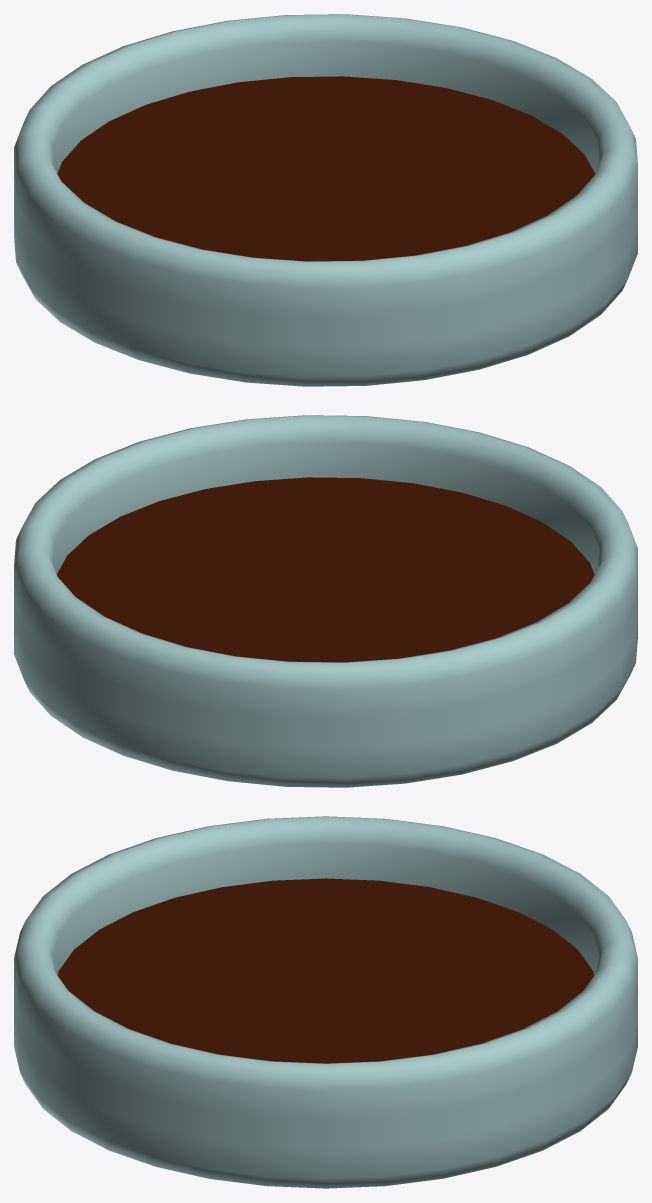
Rendered from LastLuna_Model_Station_Farm.fbx.
The picture shows the model from 3 angles, top to bottom: view 1: azimuth 30°, elevation 25°; view 2: azimuth 150°, elevation 25°; view 3: azimuth 270°, elevation 25°; orthographic projection.
Visible parts, largest first — view 1: Petri_Dish, Dirt; view 2: Petri_Dish, Dirt; view 3: Petri_Dish, Dirt.
Boxes of the visible parts, x1,y1,x2,y2 form: Petri_Dish: (14,14,637,386); Dirt: (57,76,594,261); Petri_Dish: (14,415,637,787); Dirt: (57,477,594,662); Petri_Dish: (14,816,637,1188); Dirt: (57,878,594,1063).
Bounding box in the file's own units: 80 × 17.5 × 80.
